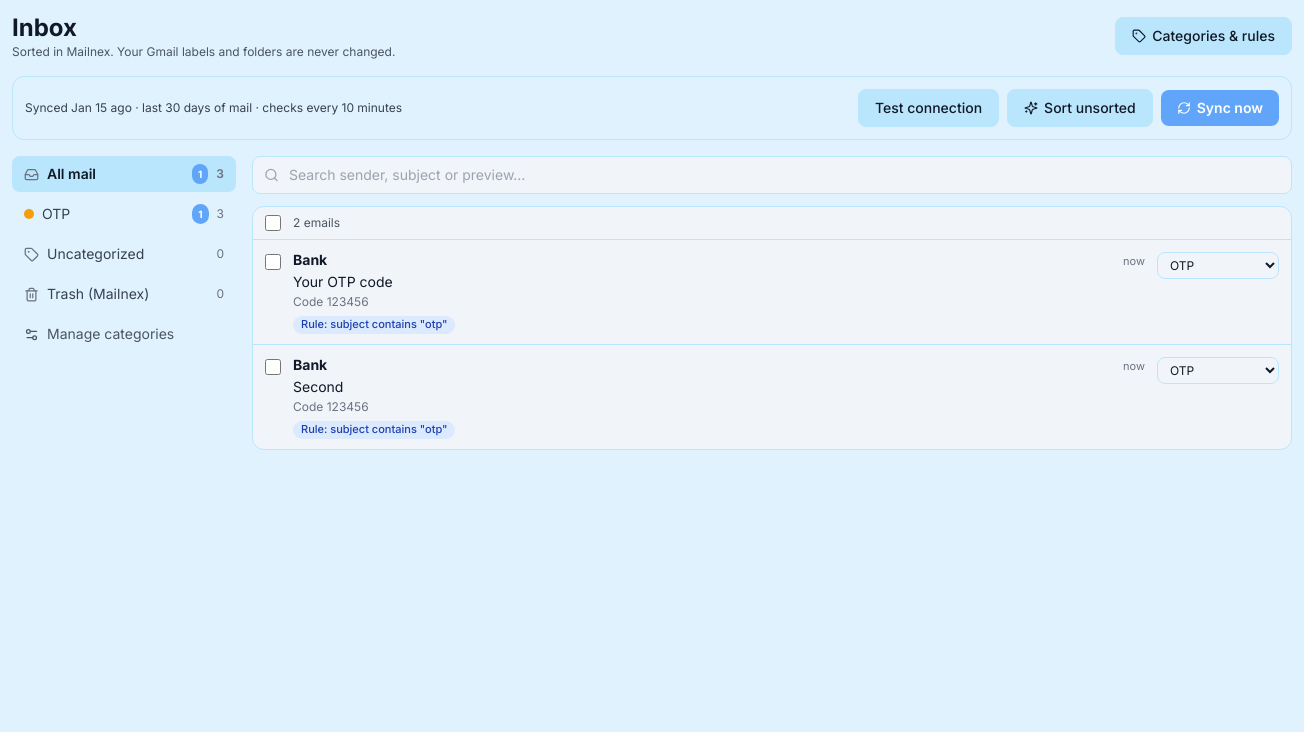
Scenario: Inbox page › selects every row on the page from the header checkbox
Expected: the text "Your OTP code" is shown, x1=293 y1=272 x2=393 y2=292
What coordinates should you click on to do the following:
click the checkbox named "Select all on this page"
I would click on:
 (273, 223)
Its box is x1=265 y1=215 x2=281 y2=231.
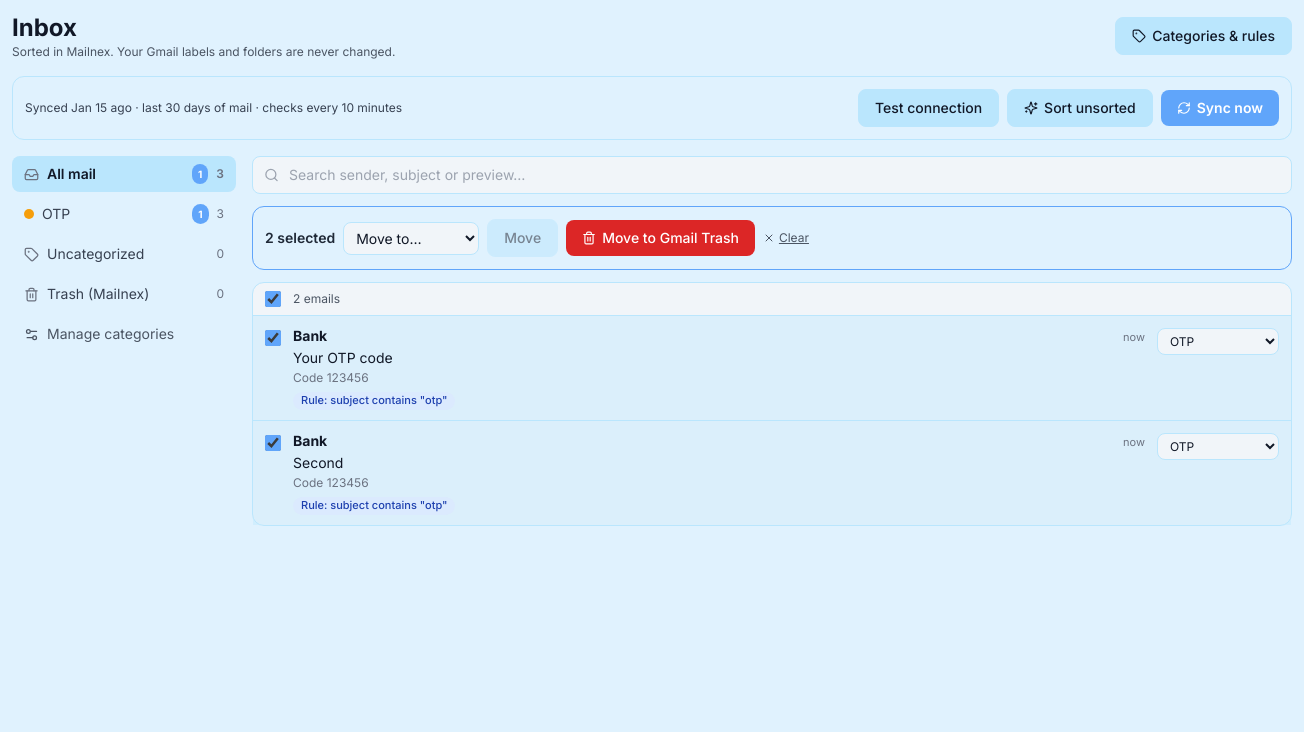
Expected: the text "2 selected" is shown, x1=265 y1=228 x2=335 y2=248
